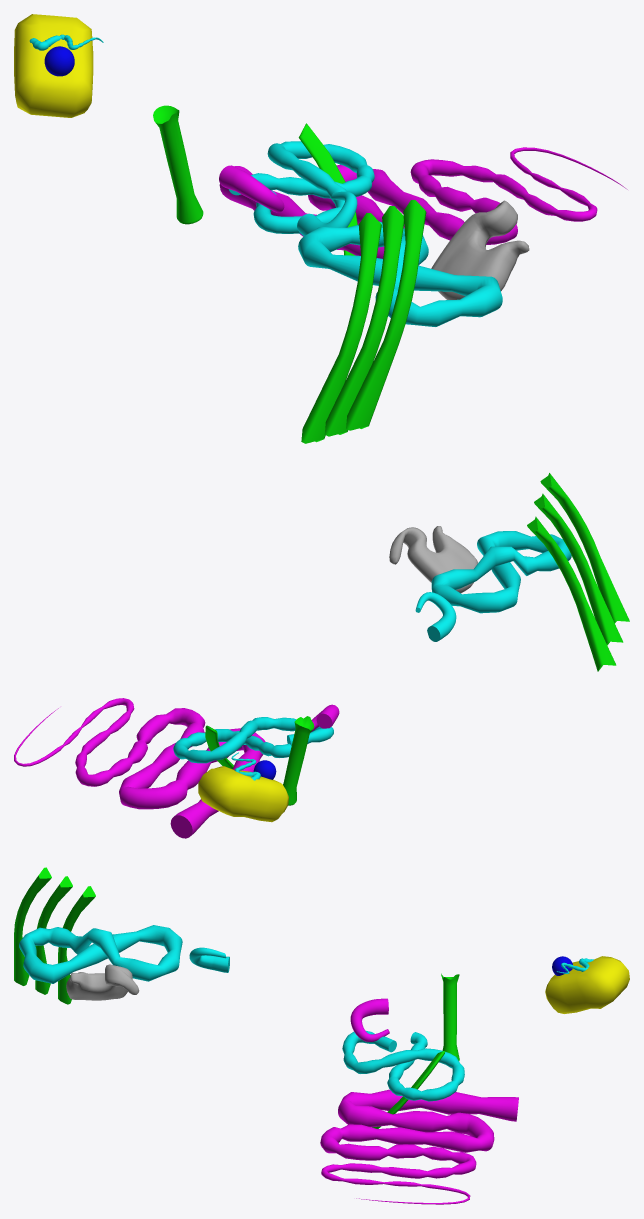
File: organe_Low_02.fbx
3 renders of one model, top to bottom at view 1: azimuth 30°, elevation 25°; view 2: azimuth 150°, elevation 25°; view 3: azimuth 270°, elevation 25°, orthographic. The views are drawn at different scales.
Parts seen in each view (by area): view 1: organe2; view 2: organe2; view 3: organe2.
Part boxes in pixels (x1=…): organe2: x1=14, y1=14, x2=627, y2=443; organe2: x1=14, y1=473, x2=629, y2=838; organe2: x1=14, y1=867, x2=629, y2=1204.
Size of the model in its own units: 0.7037 by 0.3666 by 0.9912.
